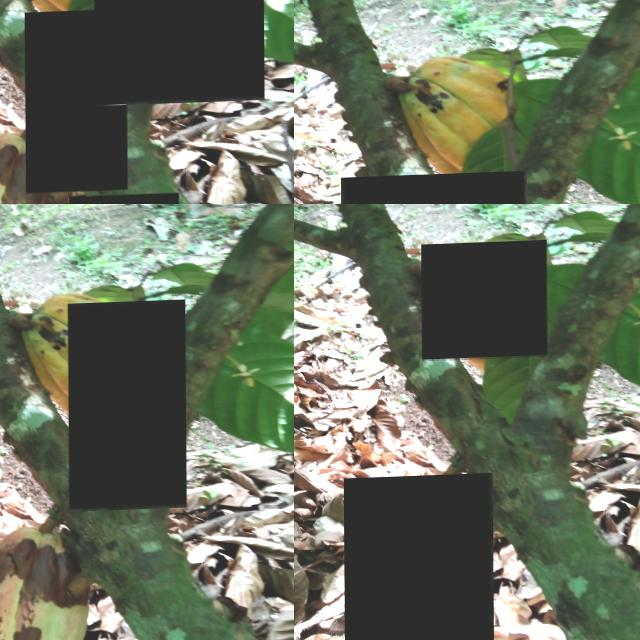Fitoftora: (68, 303, 186, 515), (343, 476, 493, 640), (24, 12, 127, 196), (421, 244, 547, 364)
Sana: (93, 0, 264, 109)
